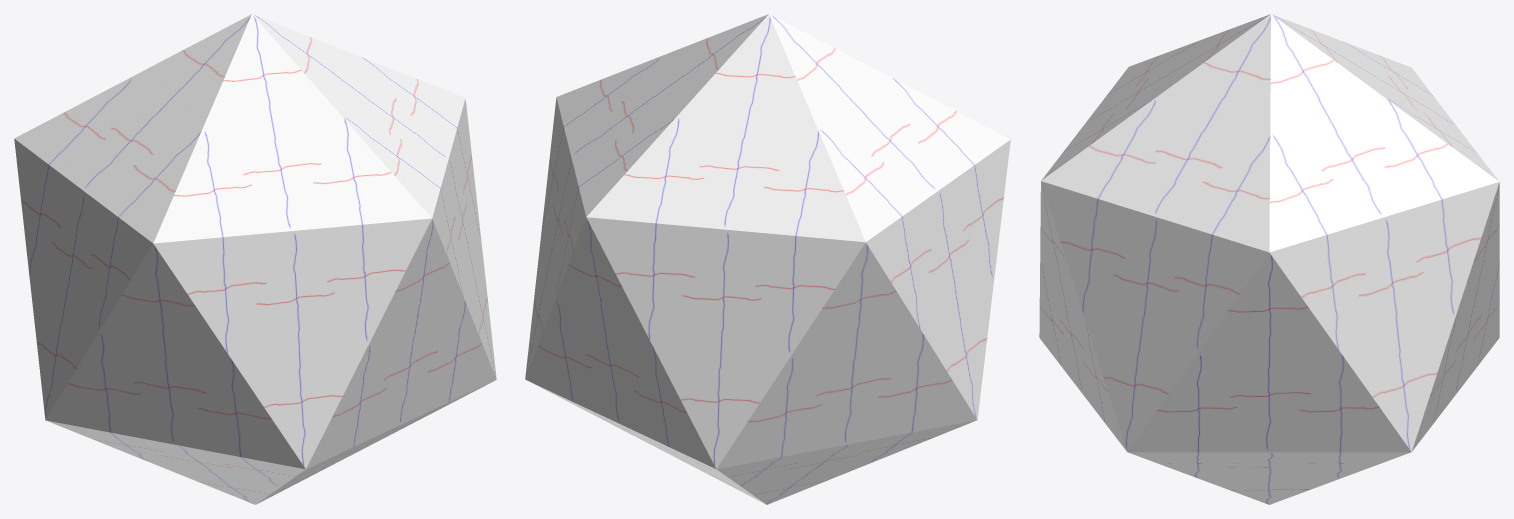
3 views of the same model, side by side, from view 1: azimuth 30°, elevation 25°; view 2: azimuth 150°, elevation 25°; view 3: azimuth 270°, elevation 25° (orthographic).
Parts seen in each view (by area): view 1: 23, 25, 24, 44, 1, 7, 8, 9, 42, 43, 22, 41 (+24 smaller); view 2: 36, 35, 56, 37, 4, 17, 16, 18, 38, 59, 57, 58 (+24 smaller); view 3: 49, 51, 30, 50, 52, 32, 33, 31, 27, 48, 28, 29 (+28 smaller).
Boxes of the visible parts, x1=… form: 23: x1=153, y1=231, x2=292, y2=355; 25: x1=293, y1=218, x2=431, y2=343; 24: x1=230, y1=231, x2=368, y2=356; 44: x1=230, y1=344, x2=368, y2=468; 1: x1=203, y1=14, x2=341, y2=128; 7: x1=153, y1=129, x2=292, y2=243; 8: x1=203, y1=116, x2=341, y2=230; 9: x1=293, y1=116, x2=431, y2=230; 42: x1=99, y1=332, x2=229, y2=444; 43: x1=176, y1=356, x2=305, y2=469; 22: x1=99, y1=244, x2=228, y2=356; 41: x1=46, y1=332, x2=175, y2=444; 36: x1=651, y1=230, x2=790, y2=355; 35: x1=586, y1=217, x2=725, y2=342; 56: x1=651, y1=343, x2=790, y2=468; 37: x1=726, y1=229, x2=865, y2=355; 4: x1=678, y1=14, x2=817, y2=127; 17: x1=678, y1=115, x2=816, y2=229; 16: x1=586, y1=116, x2=725, y2=229; 18: x1=726, y1=128, x2=865, y2=242; 38: x1=791, y1=242, x2=921, y2=355; 59: x1=847, y1=331, x2=977, y2=444; 57: x1=717, y1=356, x2=846, y2=468; 58: x1=791, y1=331, x2=921, y2=443; 49: x1=1127, y1=352, x2=1268, y2=452; 51: x1=1270, y1=352, x2=1411, y2=452; 30: x1=1199, y1=253, x2=1339, y2=352; 50: x1=1198, y1=352, x2=1340, y2=451; 52: x1=1341, y1=317, x2=1455, y2=451; 32: x1=1341, y1=217, x2=1455, y2=351; 33: x1=1384, y1=182, x2=1499, y2=316; 31: x1=1269, y1=217, x2=1384, y2=351; 27: x1=1041, y1=181, x2=1154, y2=316; 48: x1=1084, y1=317, x2=1197, y2=451; 28: x1=1084, y1=217, x2=1197, y2=351; 29: x1=1155, y1=217, x2=1269, y2=351.
Size of the model in its own units: 1.79 by 2 by 1.7.
1 material, 1 textured.
